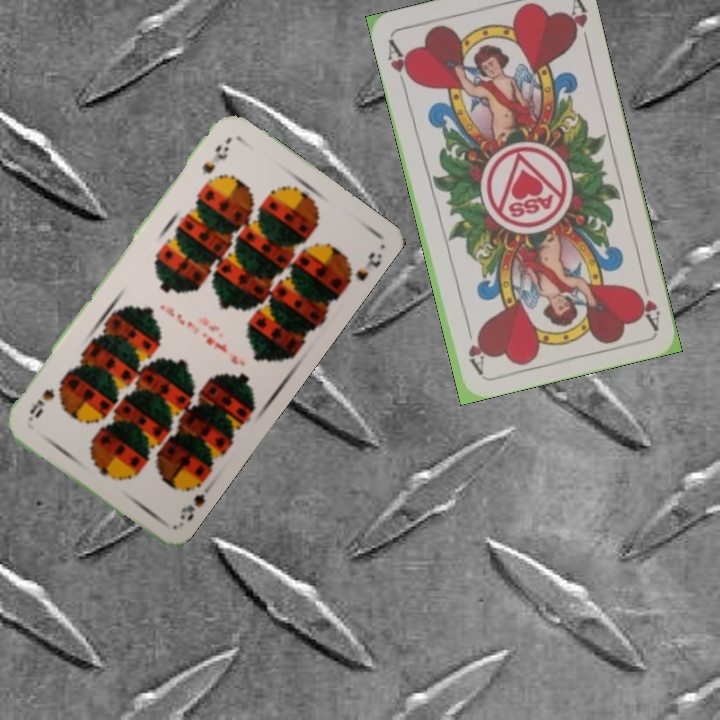HA: (383, 35, 417, 93), (630, 273, 662, 331)
S9: (175, 474, 208, 524), (197, 134, 234, 178)
